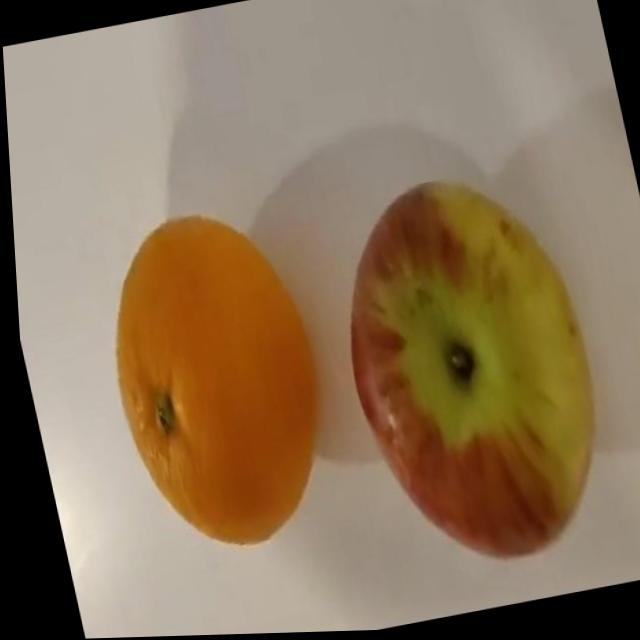Apple: (309, 157, 627, 587)
Orange: (77, 195, 347, 568)
